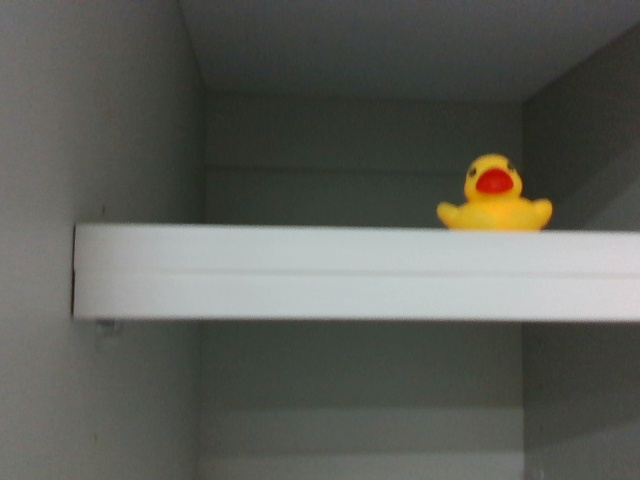duck: (439, 152, 559, 237)
